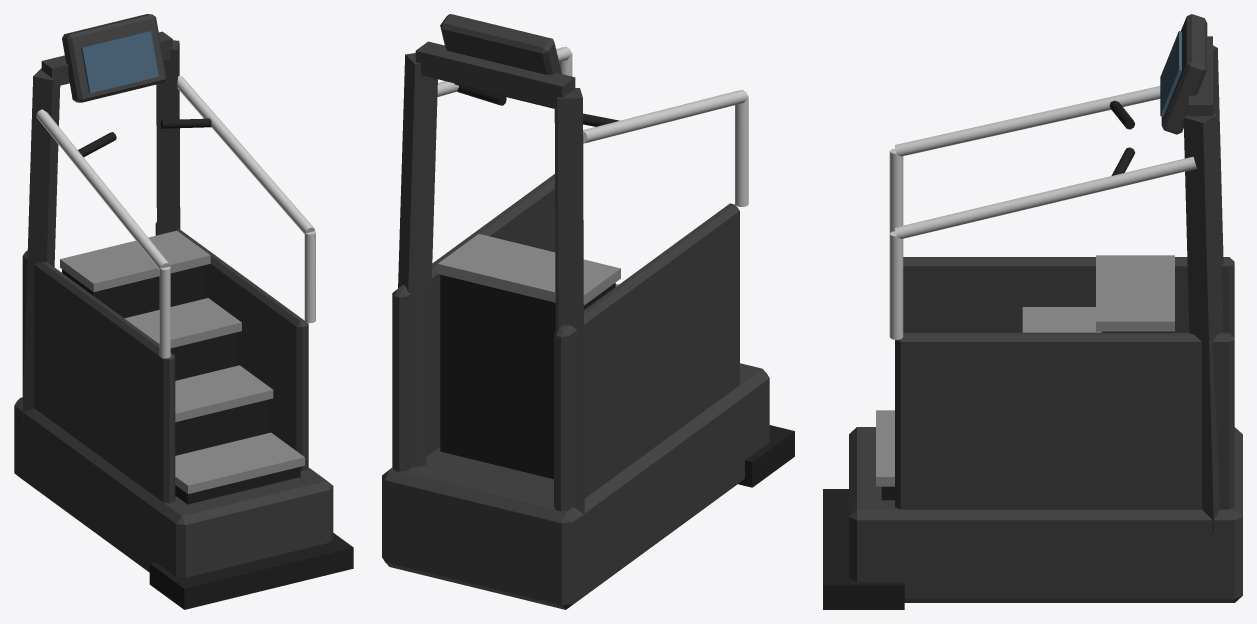
The model's file is Stair_Master.fbx.
3 renders of one model, left to right at view 1: azimuth 30°, elevation 25°; view 2: azimuth 150°, elevation 25°; view 3: azimuth 270°, elevation 25°, orthographic. The views are drawn at different scales.
Parts seen in each view (by area): view 1: Stair_Master; view 2: Stair_Master; view 3: Stair_Master.
Part boxes in pixels (x1=…): Stair_Master: x1=14, y1=14, x2=353, y2=609; Stair_Master: x1=382, y1=14, x2=794, y2=609; Stair_Master: x1=823, y1=14, x2=1242, y2=609.
Bounding box in the file's own units: 84 × 213 × 155.
